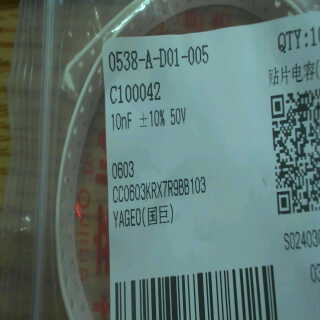10nF: (109, 110, 134, 132)
